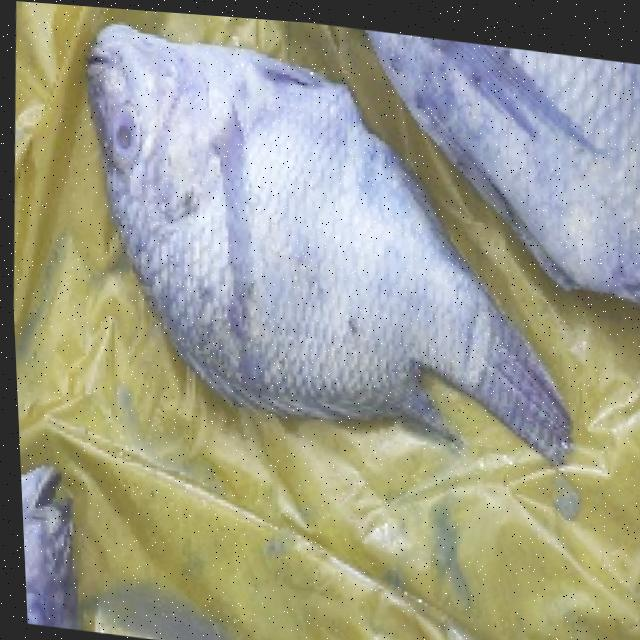Non-Fresh: (56, 15, 439, 416)
